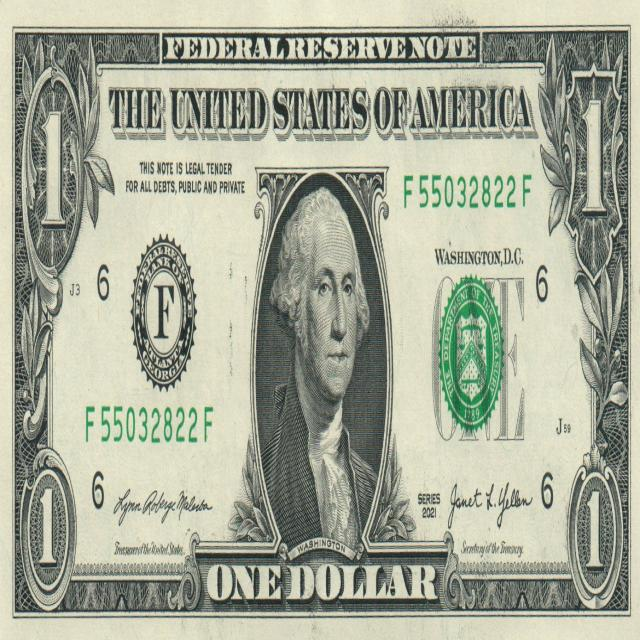SerialNumber: (86, 406, 212, 443), (404, 175, 531, 209)
